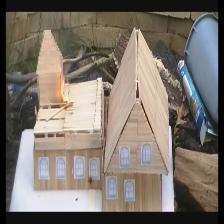fire: (57, 77, 71, 103)
